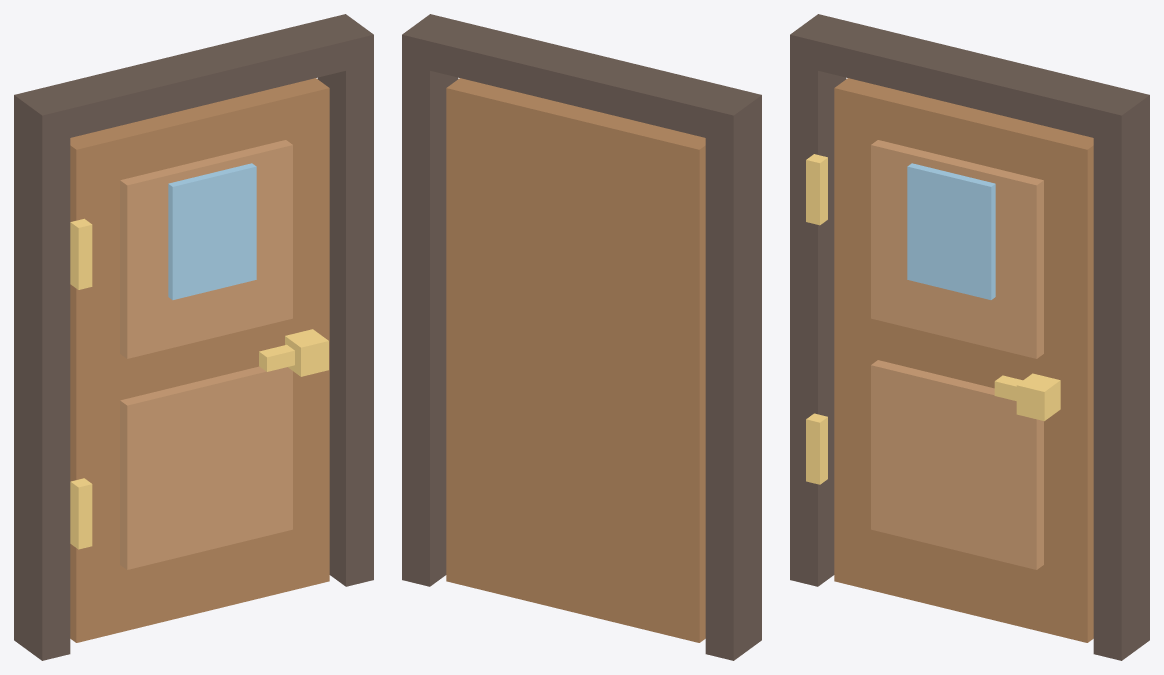
File: props-door.gltf
The picture shows the model from 3 angles, left to right: view 1: azimuth 30°, elevation 25°; view 2: azimuth 150°, elevation 25°; view 3: azimuth 330°, elevation 25°; orthographic projection.
Parts seen in each view (by area): view 1: door-slab, left-frame, lower-door-panel, right-frame, upper-door-panel, top-frame, narrow-window-pane, brass-handle, left-hinge-top, left-hinge-bottom, brass-latch-bar; view 2: door-slab, left-frame, right-frame, top-frame; view 3: door-slab, right-frame, lower-door-panel, upper-door-panel, left-frame, top-frame, narrow-window-pane, brass-handle, left-hinge-bottom, left-hinge-top.
Part boxes in pixels (<box>): door-slab: <box>70,78,329,642</box>; left-frame: <box>14,101,70,660</box>; lower-door-panel: <box>120,366,292,569</box>; right-frame: <box>317,41,373,586</box>; upper-door-panel: <box>120,140,292,358</box>; top-frame: <box>14,14,373,144</box>; narrow-window-pane: <box>168,163,256,299</box>; brass-handle: <box>285,329,328,376</box>; left-hinge-top: <box>70,218,92,289</box>; left-hinge-bottom: <box>70,478,92,549</box>; brass-latch-bar: <box>259,344,294,371</box>; door-slab: <box>446,78,705,642</box>; left-frame: <box>705,101,761,660</box>; right-frame: <box>402,41,458,586</box>; top-frame: <box>402,14,761,144</box>; door-slab: <box>834,78,1093,642</box>; right-frame: <box>1093,101,1149,660</box>; lower-door-panel: <box>871,360,1043,569</box>; upper-door-panel: <box>871,140,1043,358</box>; left-frame: <box>790,41,846,586</box>; top-frame: <box>790,14,1149,143</box>; narrow-window-pane: <box>907,163,995,299</box>; brass-handle: <box>1016,373,1060,421</box>; left-hinge-bottom: <box>806,413,827,484</box>; left-hinge-top: <box>806,154,827,225</box>.
Size of the model in its own units: 1.9 by 2.99 by 0.44.
